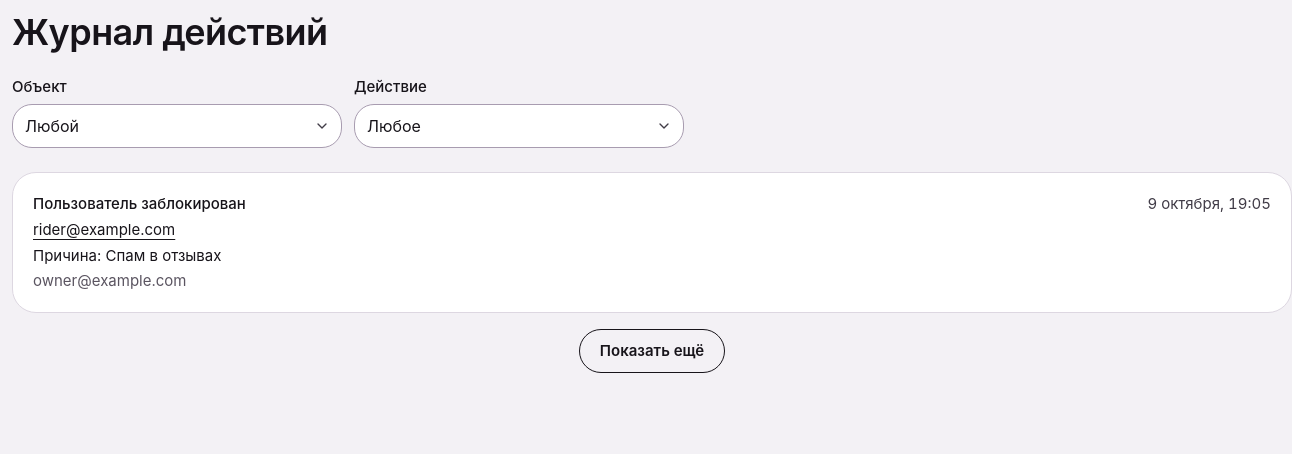
Test case: AdminActionsLog › appends the next page and says when it could not
Click the button "Показать ещё" at (652, 351), box [579,329,725,373]
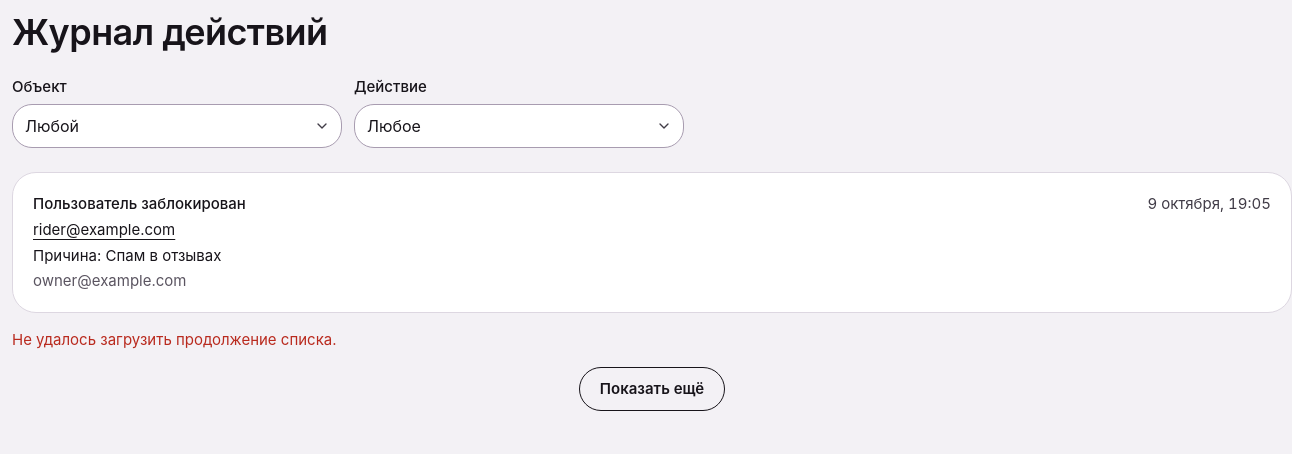
Check: the text "Не удалось загрузить продолжение списка." is shown, box [12,330,336,349]
Click the button "Показать ещё" at (652, 389), box [579,367,725,411]
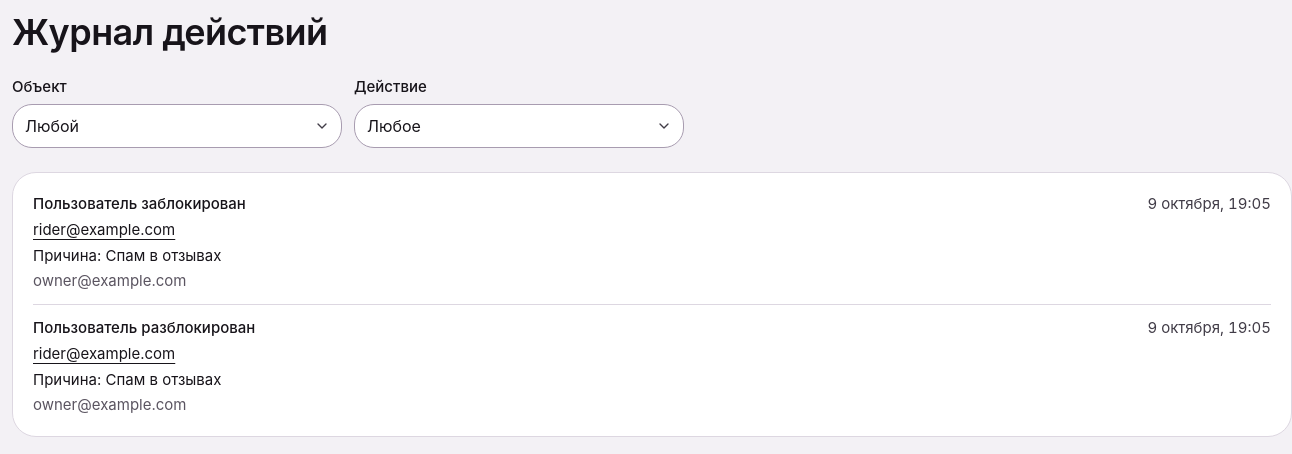
Check: the text "Не удалось загрузить продолжение списка." is gone
Check: the button "Показать ещё" is gone
